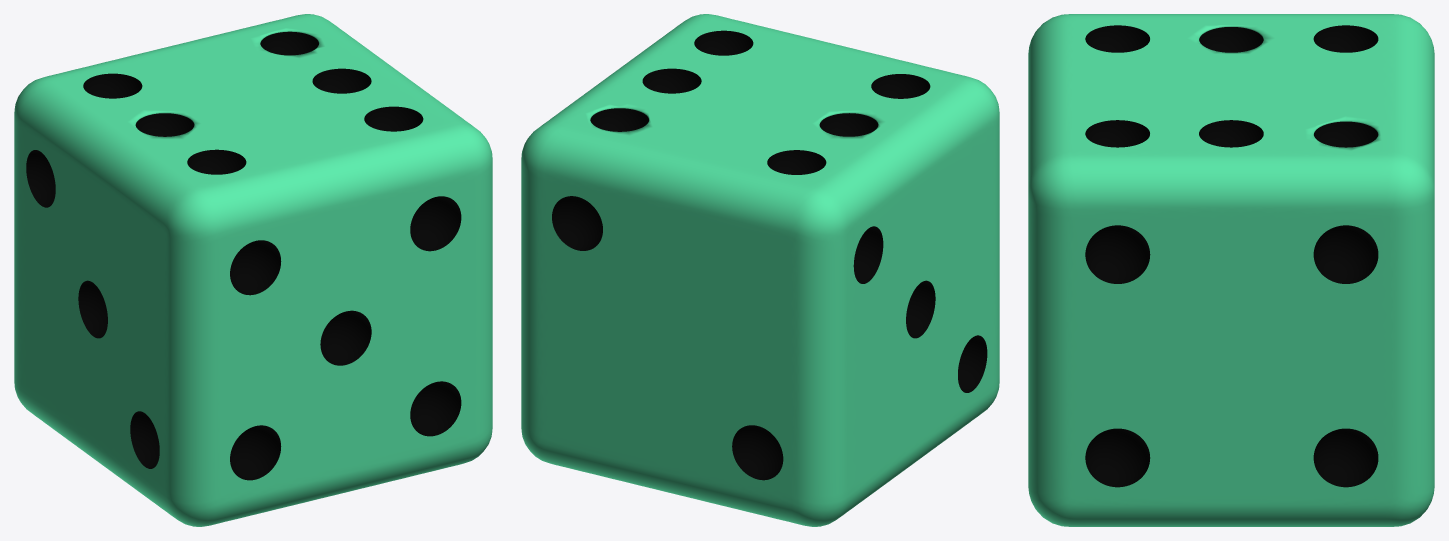
File: 3D Dice Model Turquoise.fbx
3 renders of one model, left to right at view 1: azimuth 30°, elevation 25°; view 2: azimuth 150°, elevation 25°; view 3: azimuth 270°, elevation 25°, orthographic. The views are drawn at different scales.
Visible parts, largest first — view 1: Cube, Icosphere; view 2: Cube, Icosphere; view 3: Cube, Icosphere.
Boxes of the visible parts, x1,y1,x2,y2 form: Cube: [14, 14, 492, 526]; Icosphere: [26, 31, 461, 480]; Cube: [521, 14, 999, 526]; Icosphere: [552, 30, 987, 480]; Cube: [1028, 14, 1434, 526]; Icosphere: [1085, 25, 1378, 487].
Bounding box in the file's own units: 250 × 250 × 250.
